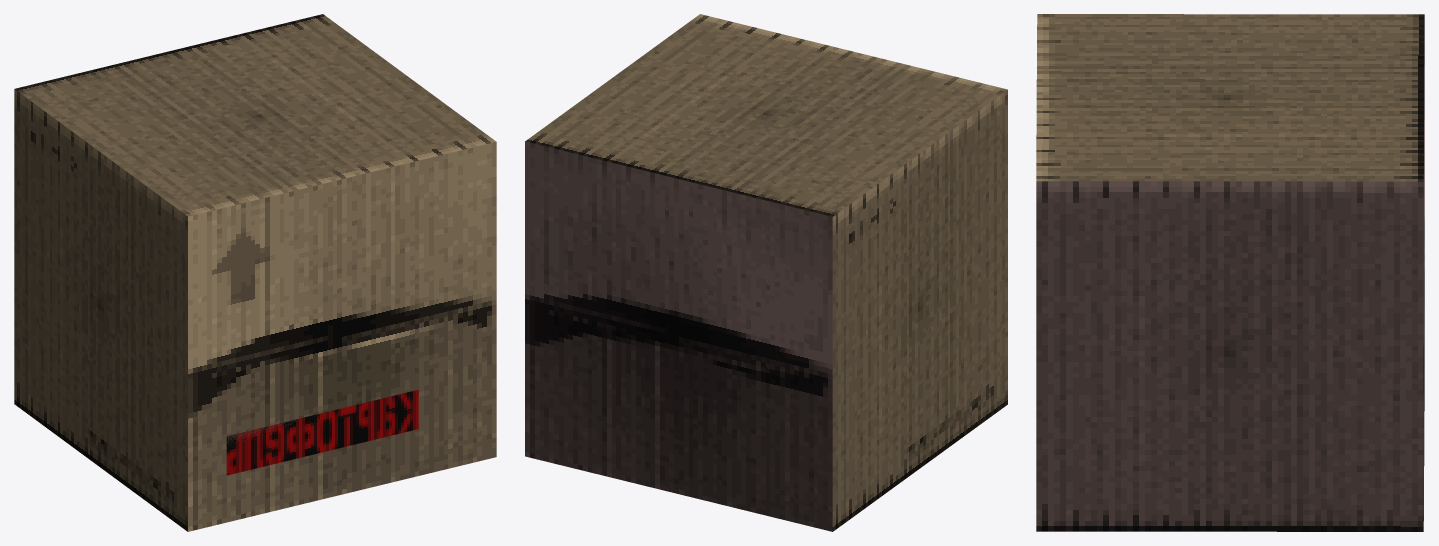
File: primary_211.glb
3 views of the same model, side by side, from view 1: azimuth 30°, elevation 25°; view 2: azimuth 150°, elevation 25°; view 3: azimuth 270°, elevation 25° (orthographic). The views are drawn at different scales.
Visible parts, largest first — view 1: Object; view 2: Object; view 3: Object.
Boxes of the visible parts, bbox=[...] form: Object: bbox=[14, 14, 496, 531]; Object: bbox=[525, 14, 1007, 531]; Object: bbox=[1036, 14, 1424, 531].
Bounding box in the file's own units: 1.1 × 1.07 × 1.08.
7 materials, 7 textured.
